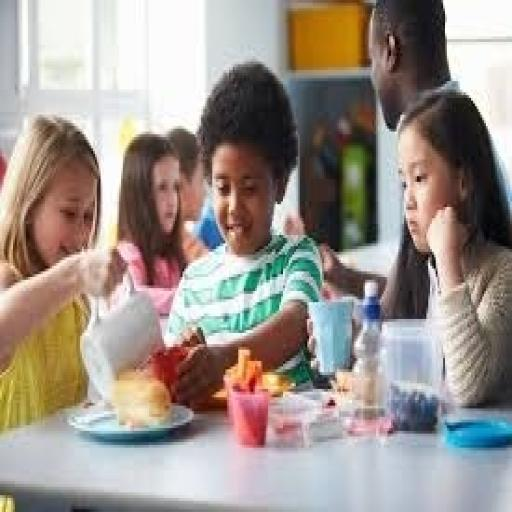eating: (162, 58, 326, 406), (0, 109, 128, 430)
